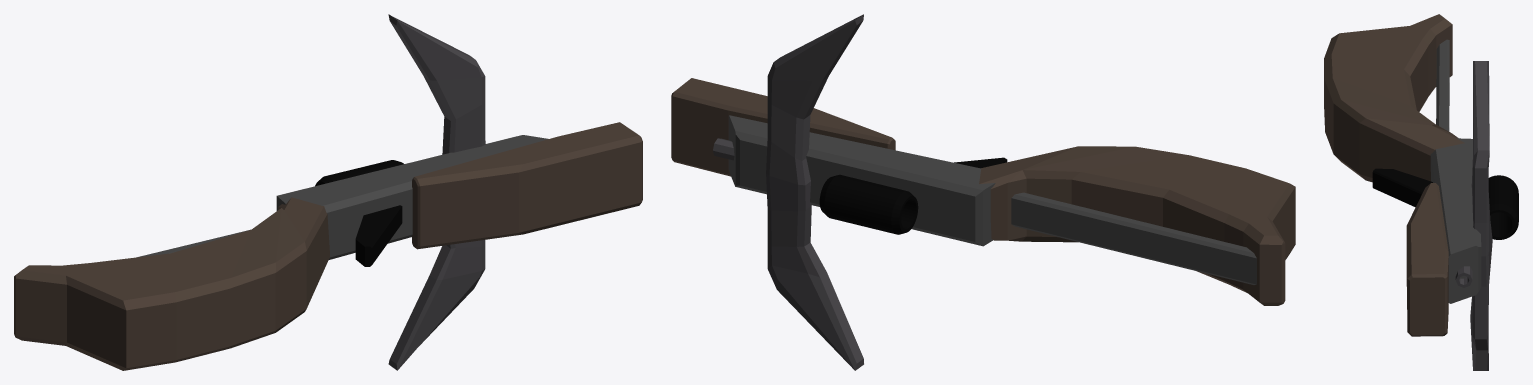
File: Crossbow Scope.fbx
3 views of the same model, side by side, from view 1: azimuth 30°, elevation 25°; view 2: azimuth 150°, elevation 25°; view 3: azimuth 270°, elevation 25° (orthographic). The views are drawn at different scales.
Parts seen in each view (by area): view 1: Handle, Forearm, Bow, Body, Trigger, Scope; view 2: Handle, Bow, Body, Bar, Forearm, Scope; view 3: Handle, Forearm, Body, Bow, Scope, Trigger, Bar, Barrel.
Part boxes in pixels (x1,y1,x2,y2): Handle: [14, 197, 329, 370]; Forearm: [412, 122, 642, 249]; Bow: [388, 14, 485, 370]; Body: [276, 135, 548, 259]; Trigger: [355, 205, 402, 266]; Scope: [315, 160, 403, 186]; Handle: [979, 146, 1295, 305]; Bow: [766, 14, 863, 370]; Body: [728, 115, 995, 246]; Bar: [1011, 192, 1256, 284]; Forearm: [671, 78, 895, 176]; Scope: [819, 174, 918, 234]; Handle: [1324, 14, 1464, 182]; Forearm: [1406, 183, 1448, 336]; Body: [1430, 138, 1481, 303]; Bow: [1470, 61, 1492, 370]; Scope: [1488, 175, 1518, 239]; Trigger: [1372, 168, 1432, 207]; Bar: [1436, 39, 1449, 131]; Barrel: [1455, 266, 1472, 287].
Size of the model in its own units: 1069 by 586 by 333.
